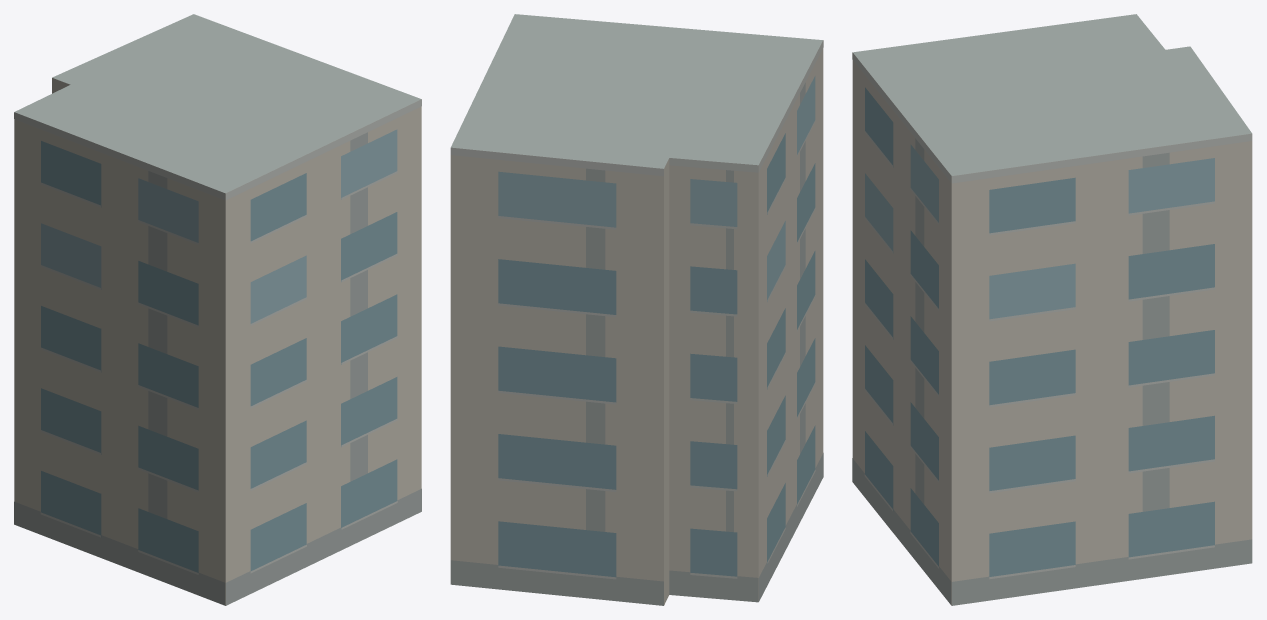
The model's file is survey-upis-33037589.glb.
3 renders of one model, left to right at view 1: azimuth 30°, elevation 25°; view 2: azimuth 150°, elevation 25°; view 3: azimuth 270°, elevation 25°, orthographic. The views are drawn at different scales.
Visible parts, largest first — view 1: survey-upis-33037589.tmp; view 2: survey-upis-33037589.tmp; view 3: survey-upis-33037589.tmp.
Boxes of the visible parts, left/top/right/bottom form: survey-upis-33037589.tmp: left=14, top=14, right=421, bottom=605; survey-upis-33037589.tmp: left=450, top=14, right=823, bottom=605; survey-upis-33037589.tmp: left=852, top=14, right=1252, bottom=605.
Size of the model in its own units: 11.5 by 14.2 by 11.98.
